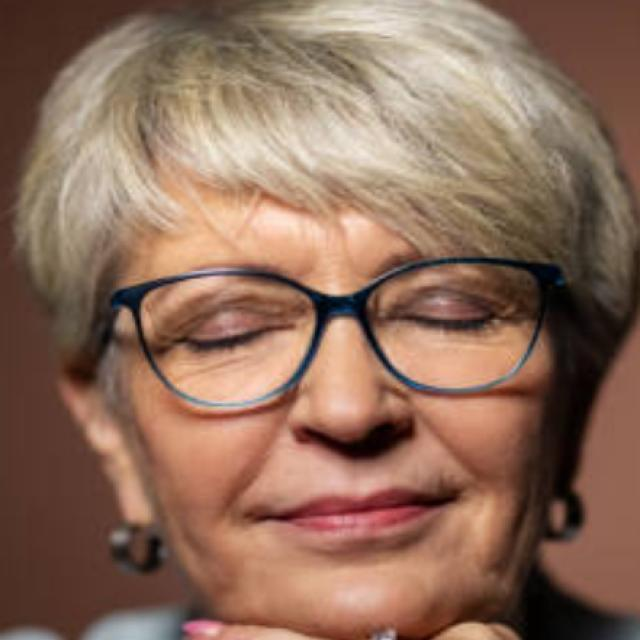close: (136, 248, 320, 386), (359, 232, 547, 352)
